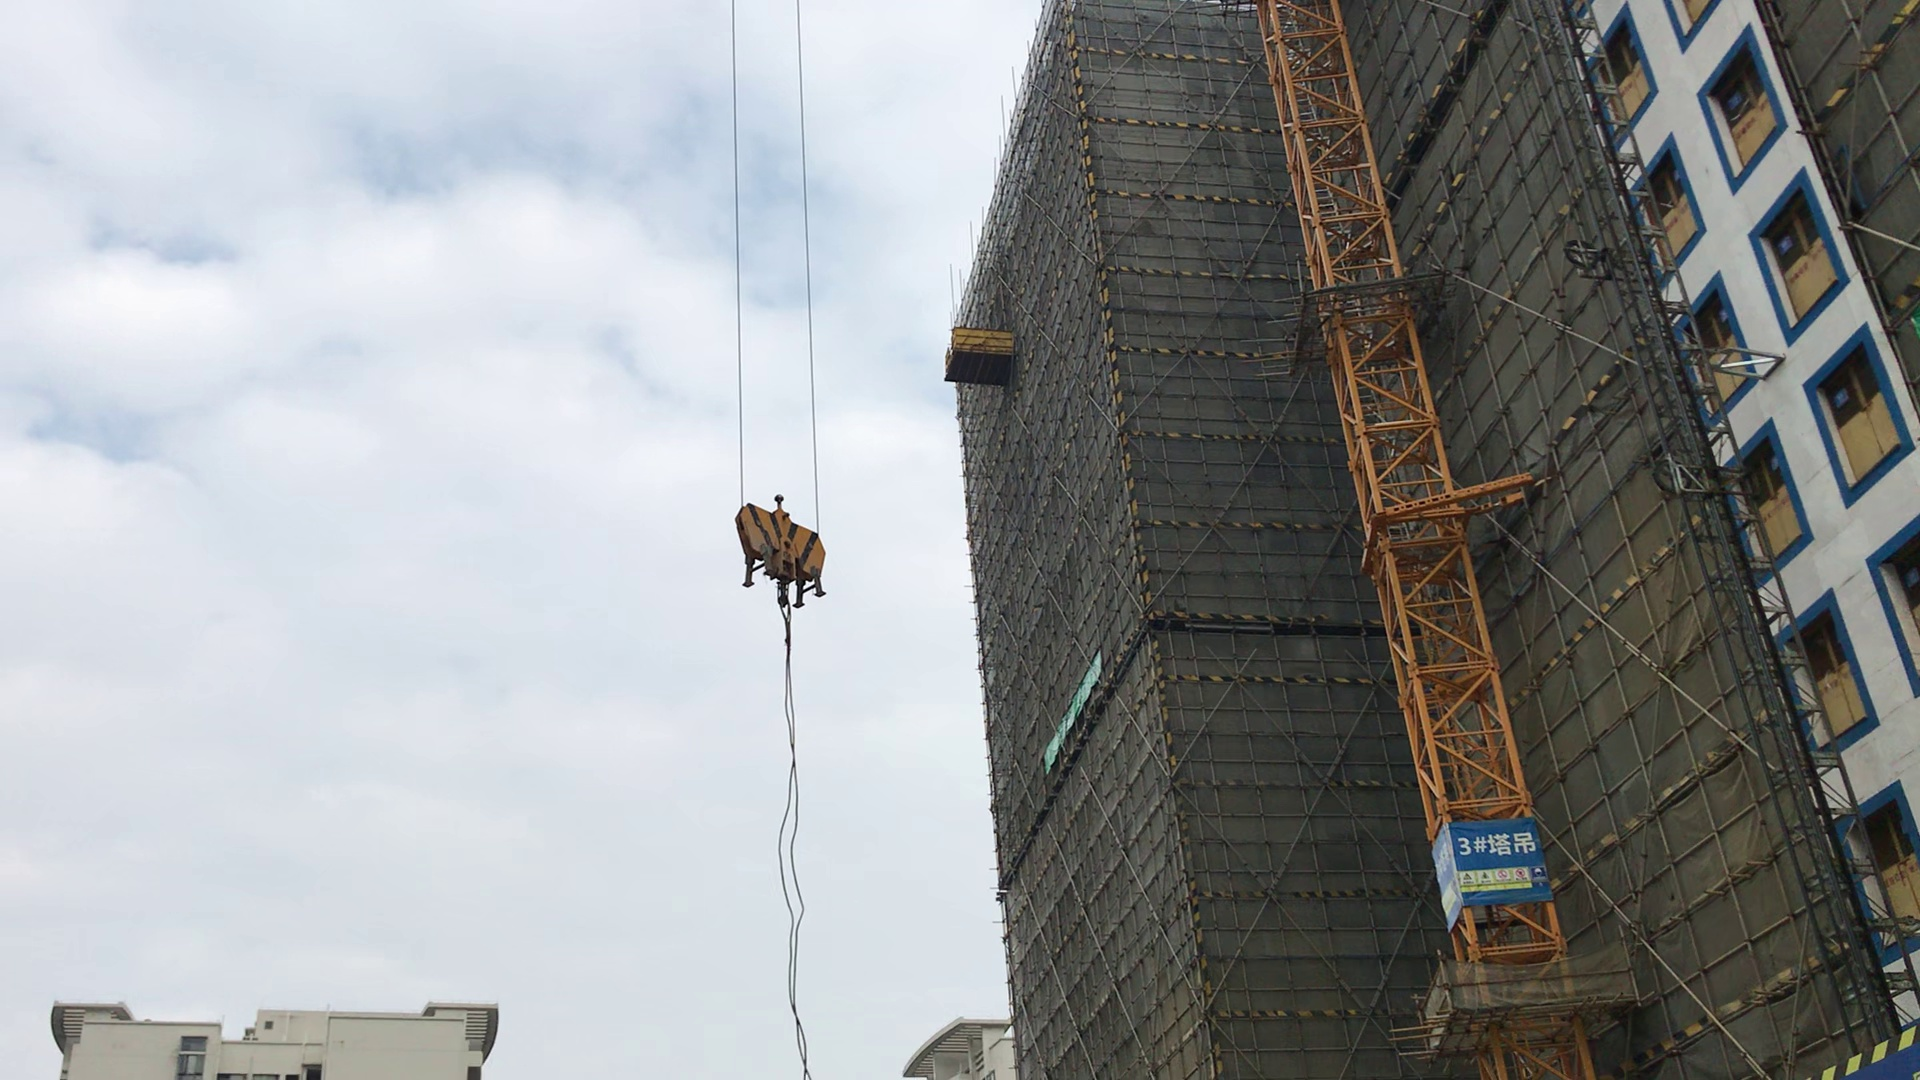hook: (708, 484, 853, 622)
slogan: (1406, 804, 1563, 930), (1780, 1007, 1920, 1079)
